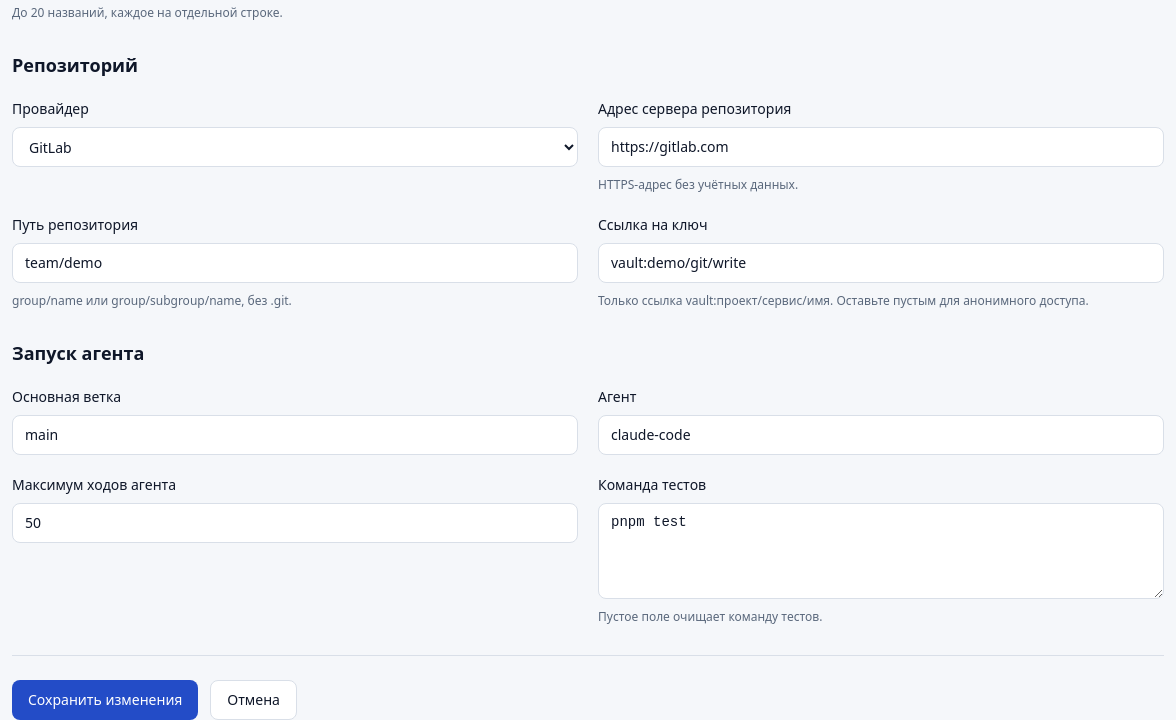
Test case: Форма проекта › показывает понятную ошибку not_found
The width and height of the screenshot is (1176, 720).
(page scrolled)
Step 1. Click the button "Сохранить изменения" → coordinates (105, 700), box [12,680,198,719]
(page scrolled)
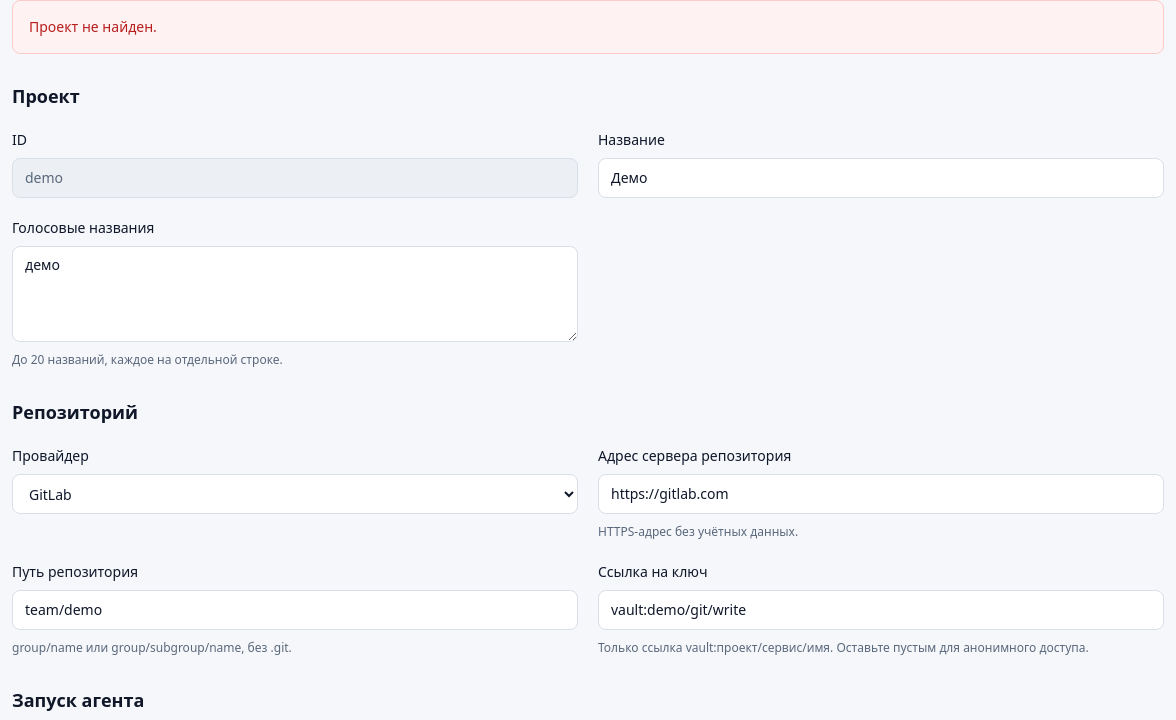
Expected: the message reads "Проект не найден.", [29,17,157,36]
